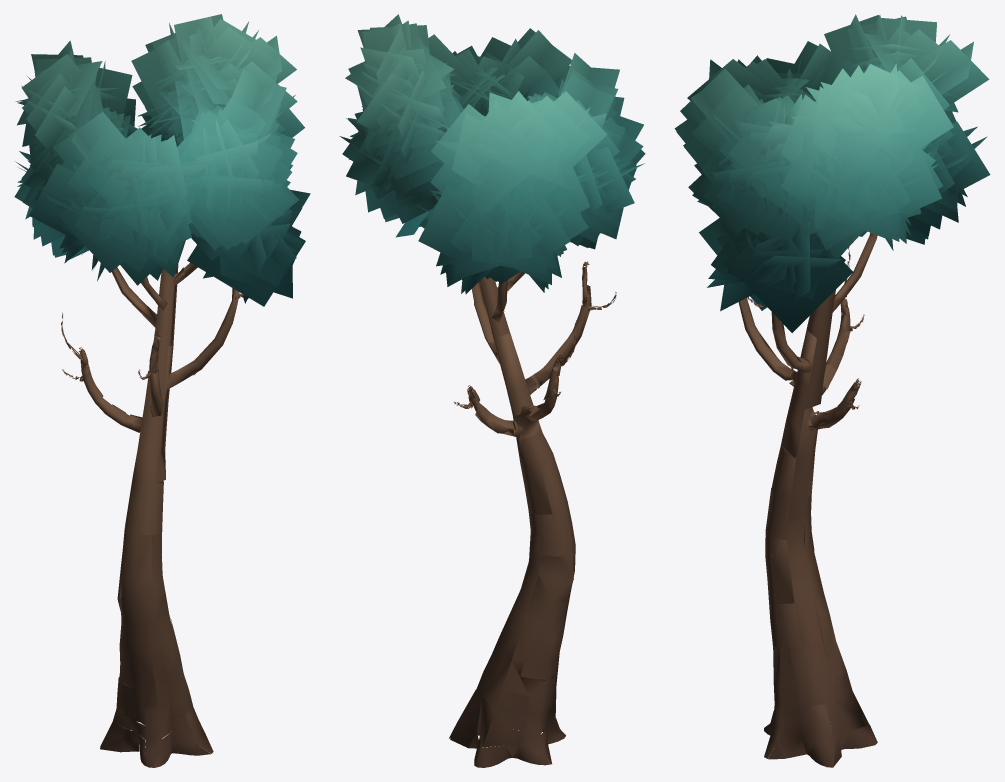
Rendered from q_tree_teal.glb.
3 views of the same model, side by side, from view 1: azimuth 30°, elevation 25°; view 2: azimuth 150°, elevation 25°; view 3: azimuth 270°, elevation 25° (orthographic). The views are drawn at different scales.
Parts seen in each view (by area): view 1: Leaves, Trunk; view 2: Leaves, Trunk; view 3: Leaves, Trunk.
Part boxes in pixels (x1,y1,x2,y2): Leaves: [14, 14, 310, 306]; Trunk: [61, 262, 243, 767]; Leaves: [339, 14, 645, 294]; Trunk: [449, 261, 616, 767]; Leaves: [674, 14, 990, 332]; Trunk: [738, 233, 877, 767].
Size of the model in its own units: 2.19 by 5.4 by 2.15.
